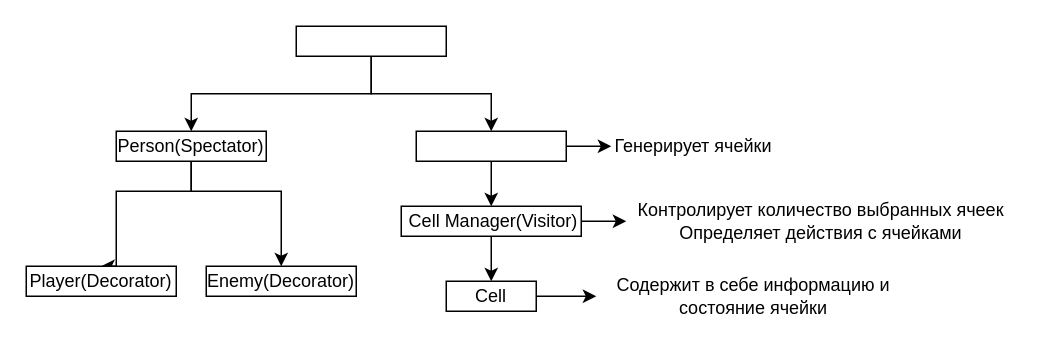
The diagram is 1043 pixels wide and 345 high, and some of its shapes have lost their labels. The box of each missing label's shape, as (x1, y1, x2, y2) in pixels:
Board(Decorator): (415, 130, 566, 161)
GameController: (295, 25, 446, 56)
